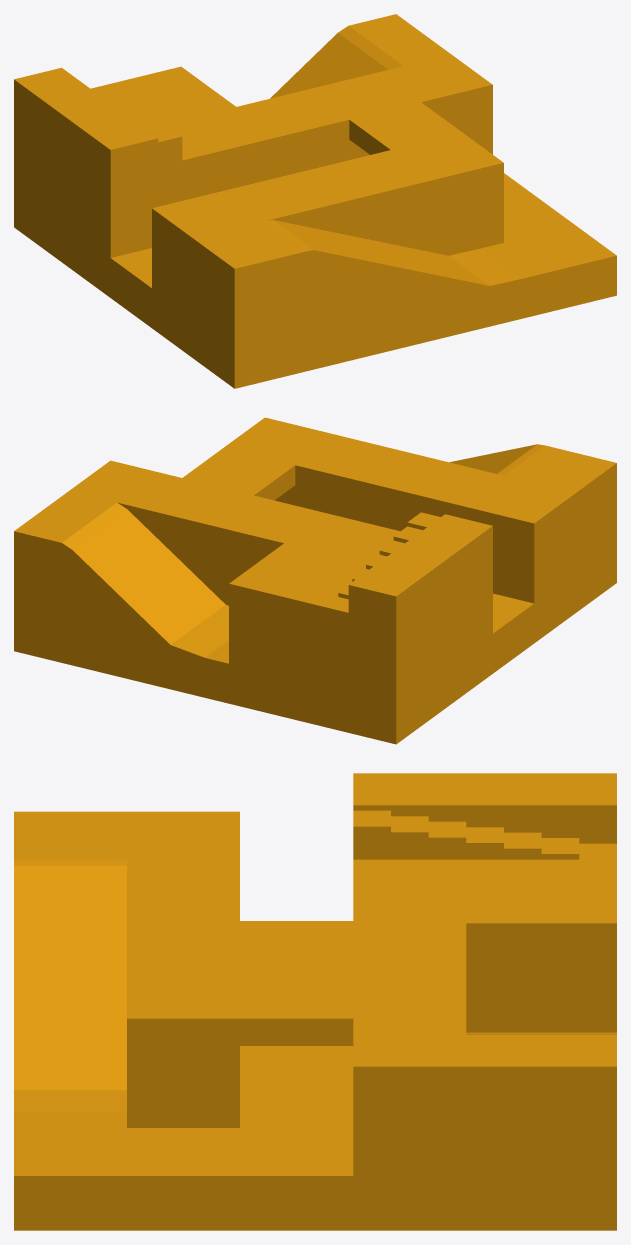
File: demo-level.glb
The picture shows the model from 3 angles, top to bottom: view 1: azimuth 30°, elevation 25°; view 2: azimuth 150°, elevation 25°; view 3: azimuth 270°, elevation 25°; orthographic projection. The views are drawn at different scales.
Parts seen in each view (by area): view 1: Cube; view 2: Cube; view 3: Cube.
Part boxes in pixels (x1,y1,x2,y2): Cube: [14, 14, 616, 388]; Cube: [14, 417, 616, 744]; Cube: [14, 773, 616, 1230].
Size of the model in its own units: 20 by 7.4 by 20.
